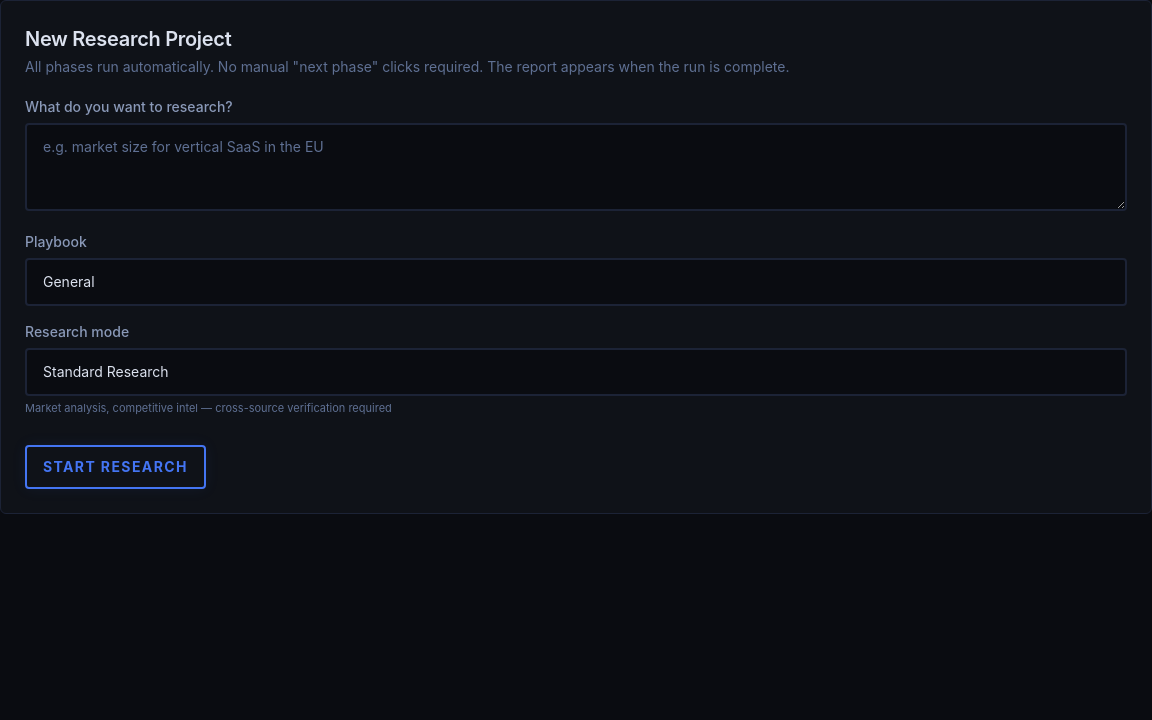
Test: CreateProjectForm › shows error when submitting empty question
Click the button "Start Research": x=115, y=466 [25,444,206,488]
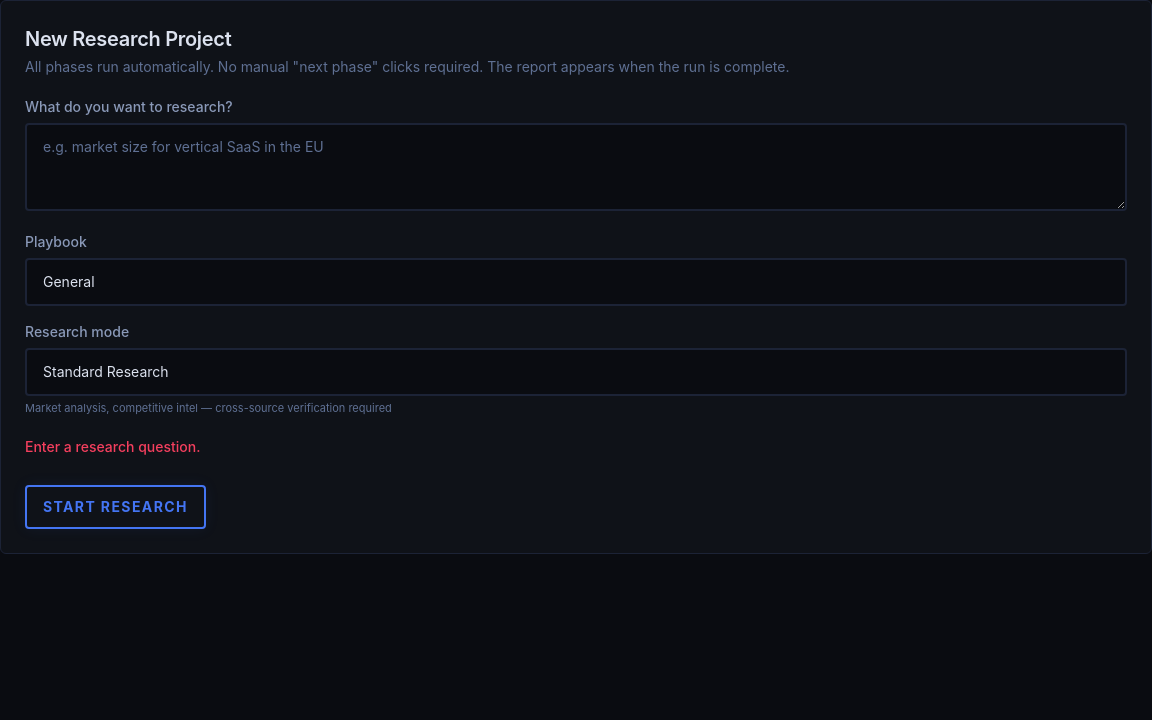
Expected: the text "Enter a research question." is shown, [25,438,200,454]
